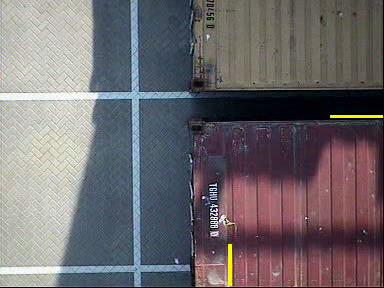groundmarker_2: (1, 170, 123, 268)
